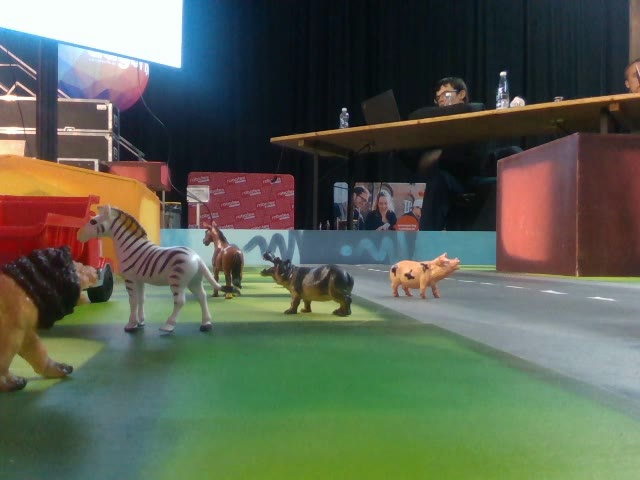toy: (76, 201, 226, 337), (257, 244, 362, 321), (383, 246, 466, 303)
